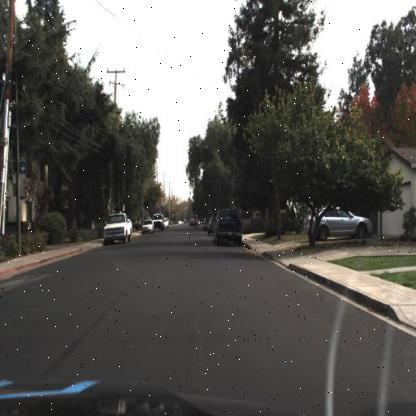car: (302, 206, 375, 242), (214, 204, 243, 245), (101, 211, 132, 244), (151, 212, 166, 231), (140, 219, 154, 234)
